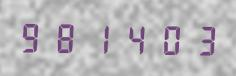eight: (50, 18, 82, 55)
four: (117, 19, 149, 56)
nine: (17, 18, 49, 54)
one: (84, 19, 116, 55)
three: (183, 21, 215, 57)
zero: (150, 20, 182, 57)
